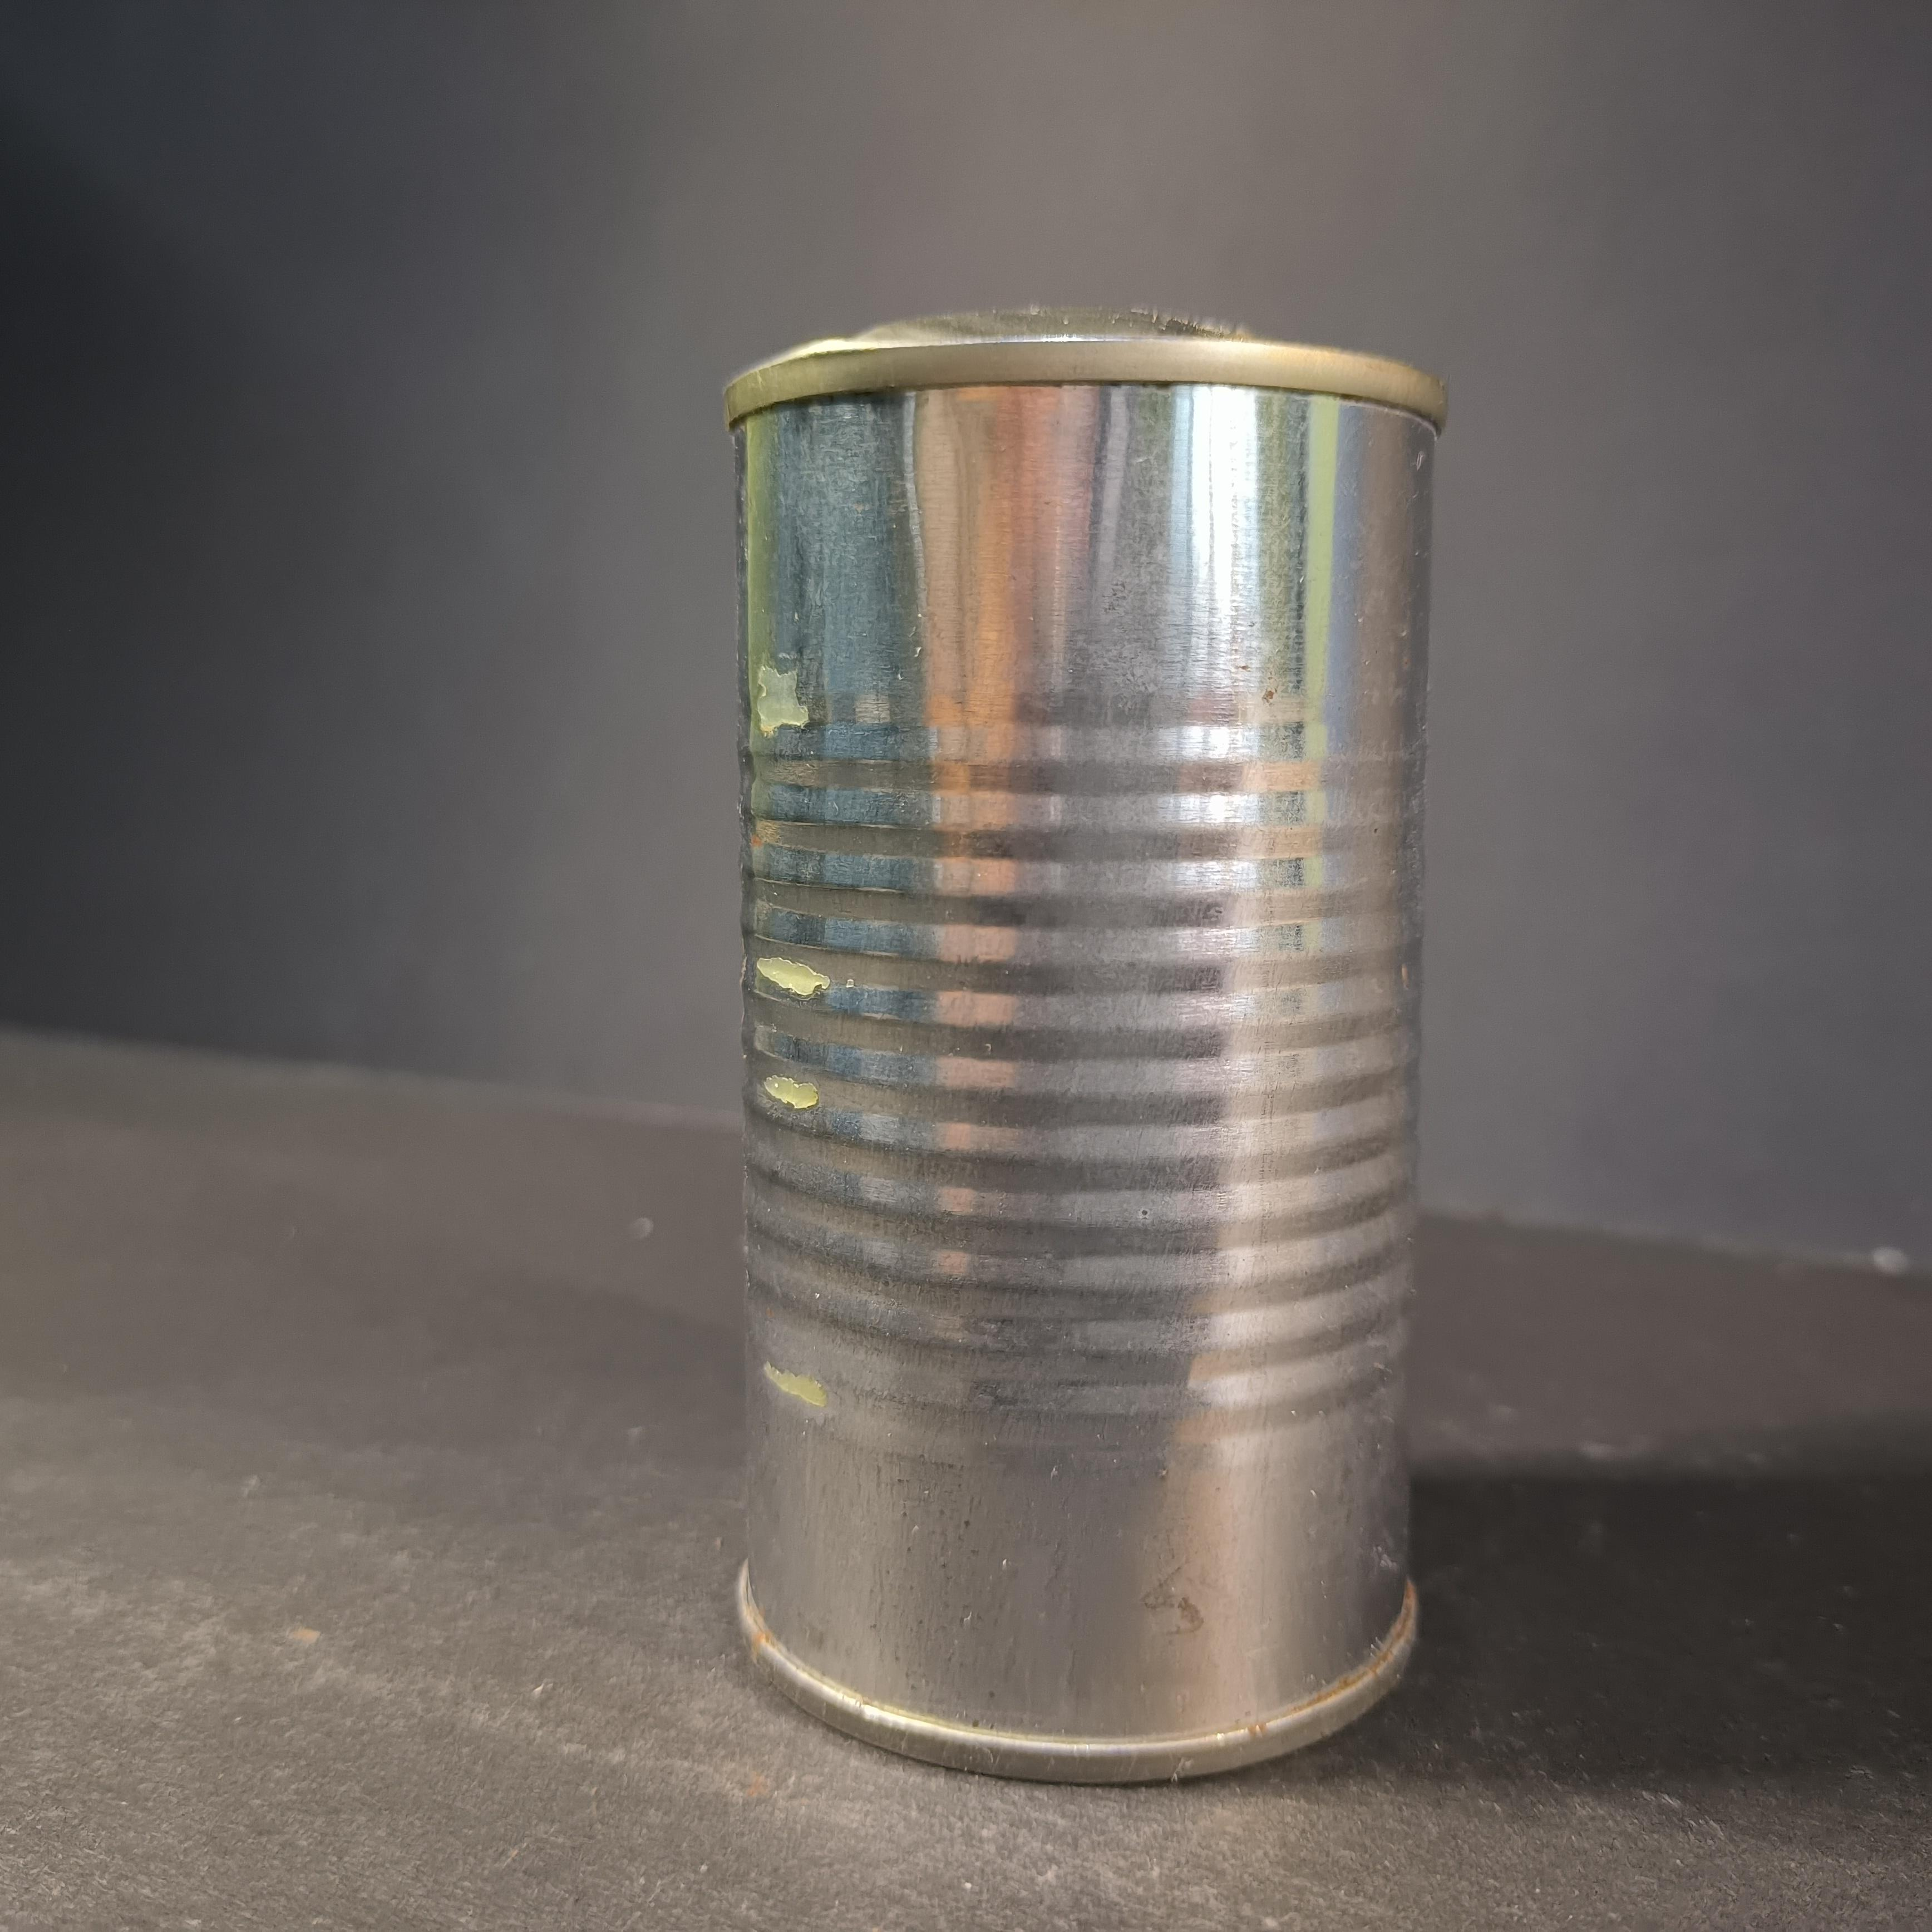Critical Defect: (713, 301, 1453, 1794)
